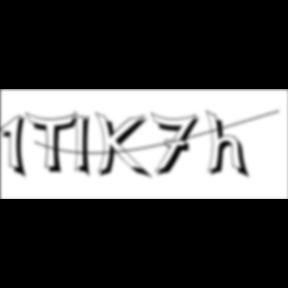1: (1, 114, 34, 182)
7: (150, 111, 206, 179)
K: (96, 110, 154, 182)
T: (26, 112, 84, 176)
h: (206, 108, 252, 182)
l: (74, 108, 97, 182)
